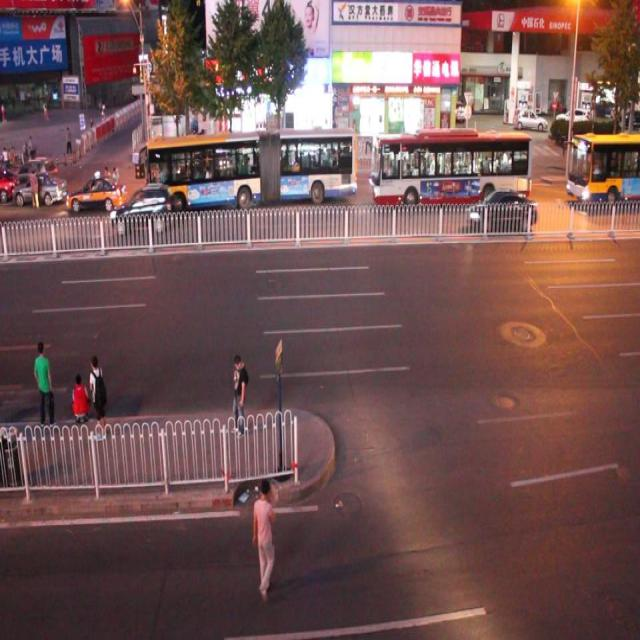car: (468, 186, 534, 231), (110, 186, 171, 232), (67, 176, 124, 213), (187, 146, 232, 191), (278, 149, 328, 186), (15, 172, 67, 205), (18, 153, 58, 188), (1, 165, 17, 201)
van: (142, 127, 357, 205), (370, 126, 530, 205), (566, 127, 640, 207)
